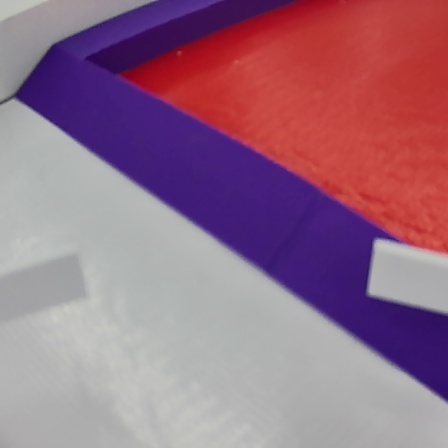red_aim: (21, 0, 446, 405)
